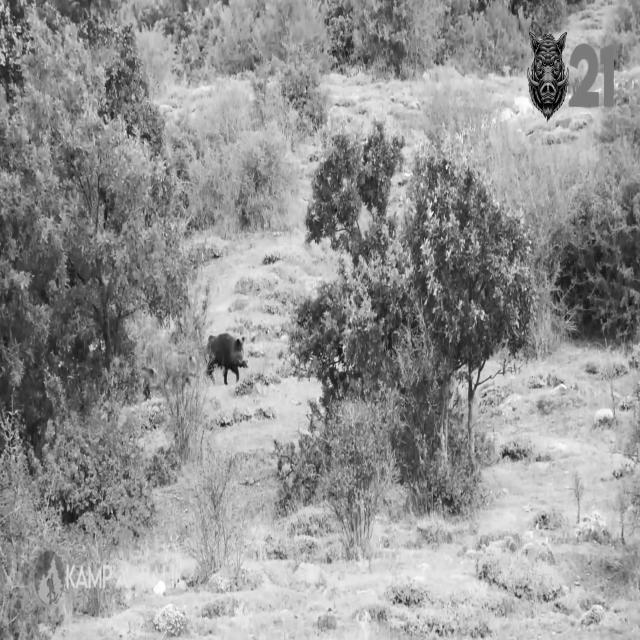boar: (204, 332, 247, 383)
